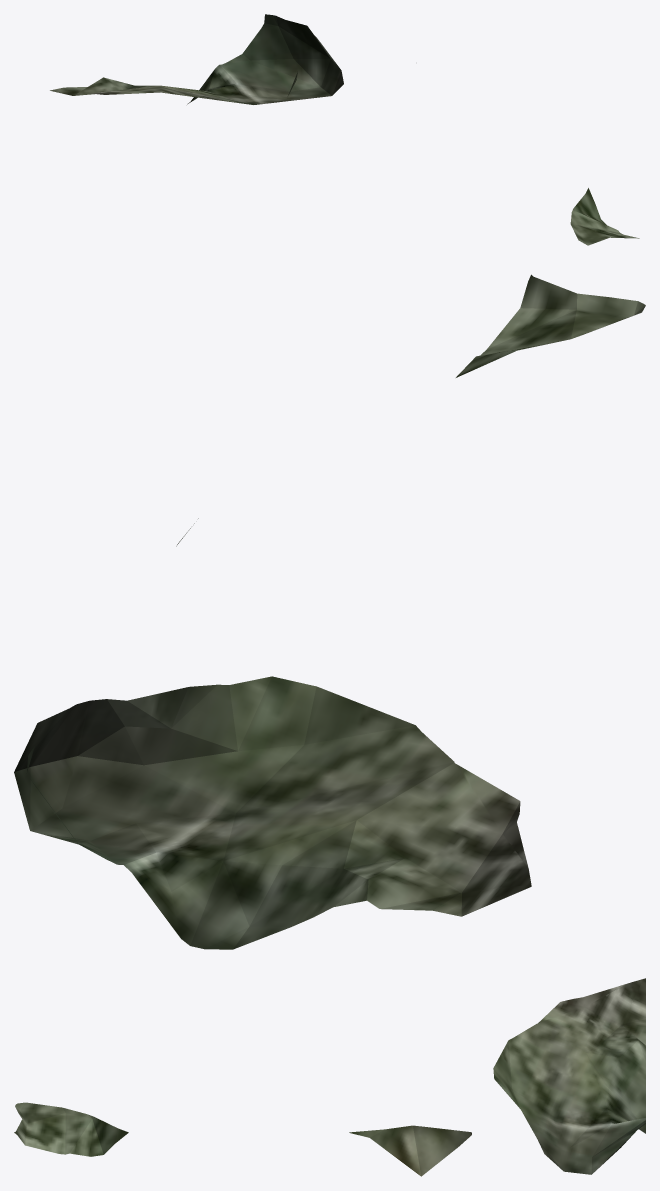
3 views of the same model, one above another, from view 1: azimuth 30°, elevation 25°; view 2: azimuth 150°, elevation 25°; view 3: azimuth 270°, elevation 25° (orthographic). The views are drawn at different scales.
Size of the model in its own units: 1.41 by 0.3062 by 2.44.
Materials: 1 (1 with a texture image).
